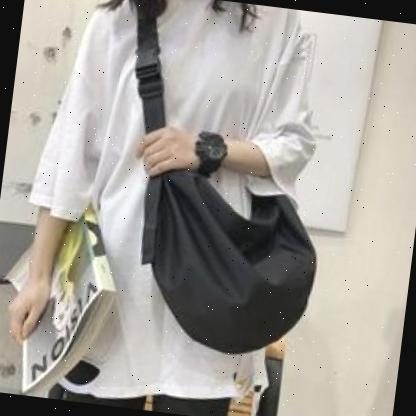bag: (119, 127, 337, 370)
